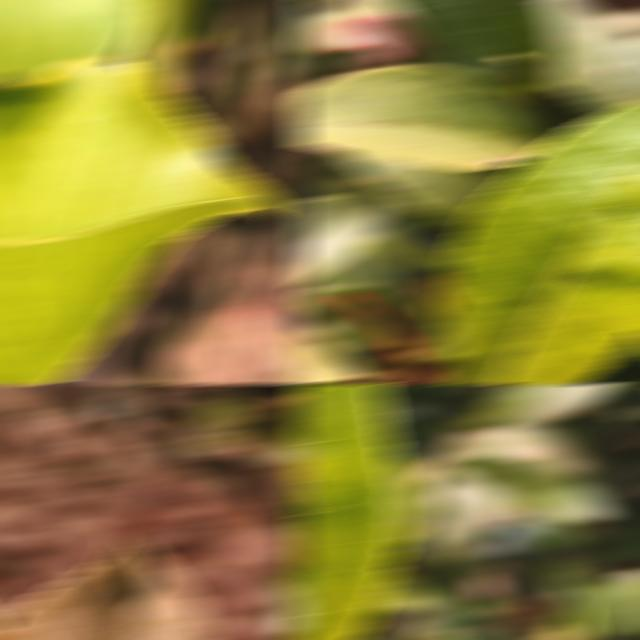Leaf: (0, 58, 282, 384), (442, 102, 640, 384), (293, 384, 406, 640), (293, 65, 561, 169), (386, 0, 563, 92), (340, 155, 527, 224), (0, 0, 154, 81), (539, 0, 640, 112), (455, 458, 616, 522), (293, 194, 392, 285), (296, 286, 399, 350), (546, 567, 640, 635), (470, 384, 623, 425), (341, 288, 439, 336), (293, 327, 369, 384)
